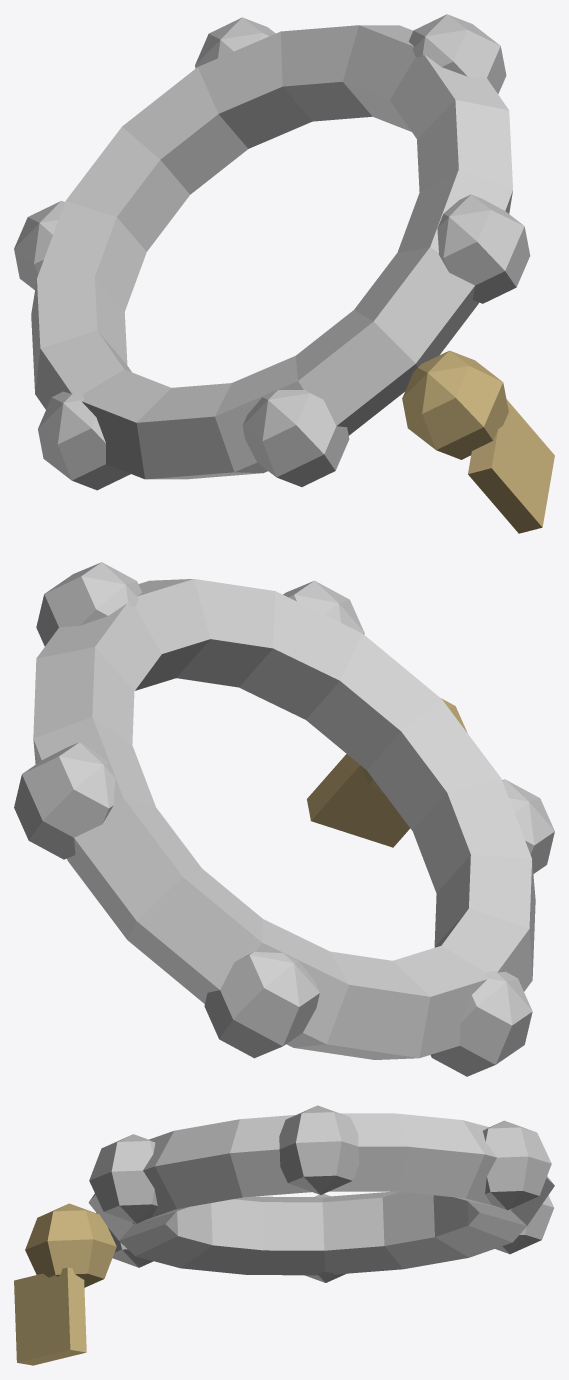
Rendered from acc_bracelet_v01.glb.
3 views of the same model, one above another, from view 1: azimuth 30°, elevation 25°; view 2: azimuth 150°, elevation 25°; view 3: azimuth 270°, elevation 25° (orthographic). The views are drawn at different scales.
Visible parts, largest first — view 1: acc_bracelet; view 2: acc_bracelet; view 3: acc_bracelet.
Boxes of the visible parts, x1,y1,x2,y2 form: acc_bracelet: (14, 14, 554, 533); acc_bracelet: (14, 562, 554, 1076); acc_bracelet: (14, 1105, 554, 1365).
Size of the model in its own units: 0.1117 by 0.0898 by 0.1414.
